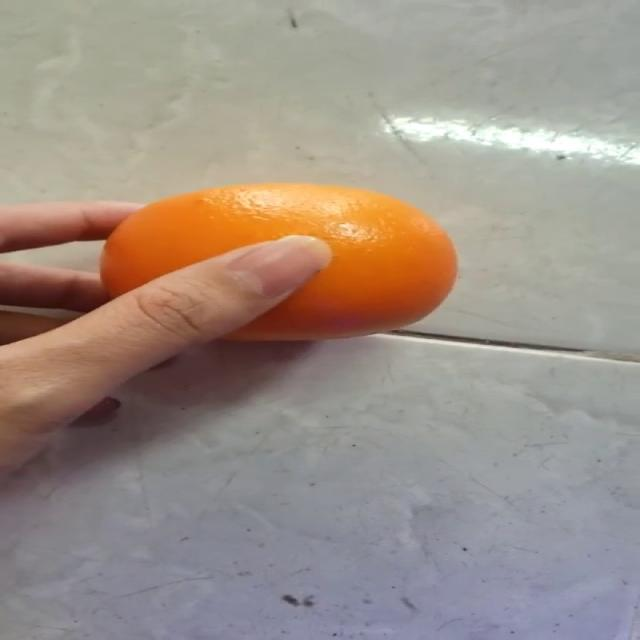Orange: (98, 180, 459, 343)
